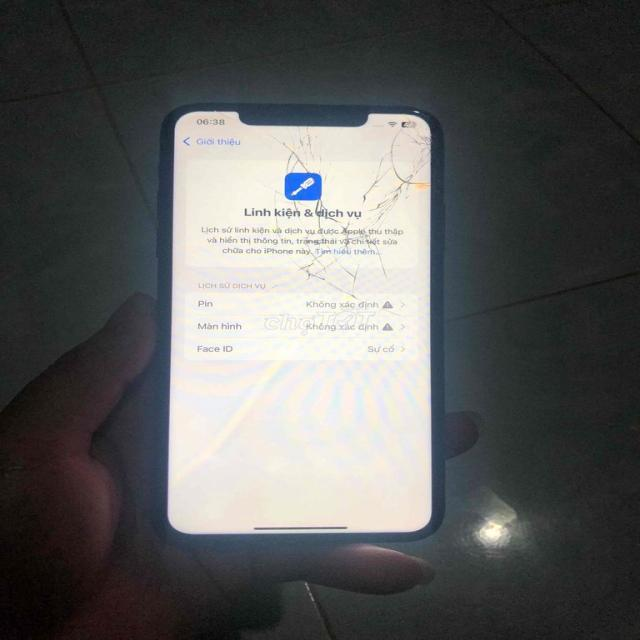gen_11: (148, 96, 468, 564)
